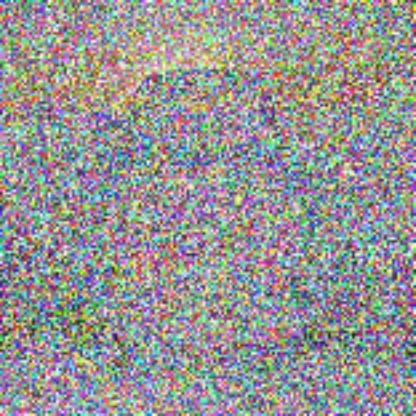Vehicle: (87, 70, 322, 330)
